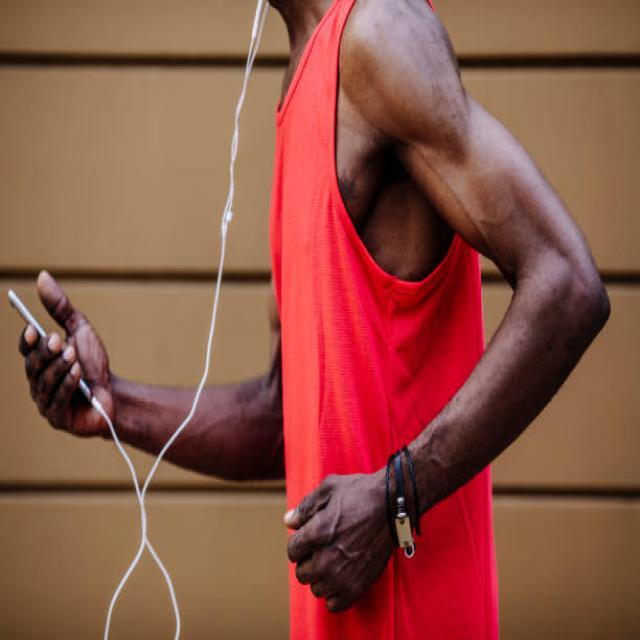Earphone: (93, 0, 270, 640)
